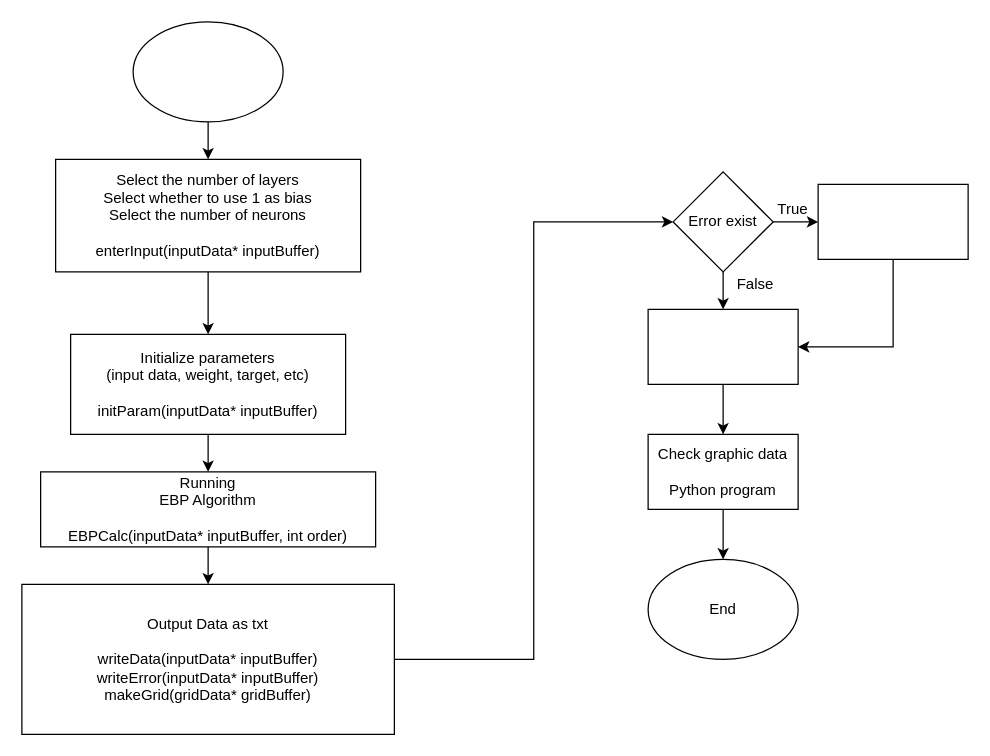
Some shapes in this 990 by 756 pixel diagram are drawn without their labels. The shapes that lost their labels are listed below. From the top down, each one's centre as x and y in pixels, then its label:
At (207,71): "Start".
At (892,221): "Print Grid that has error".
At (722,346): "Enter any input & Inspect the result".
